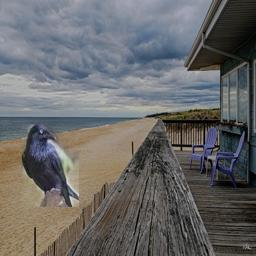Crow: (21, 124, 79, 207)
